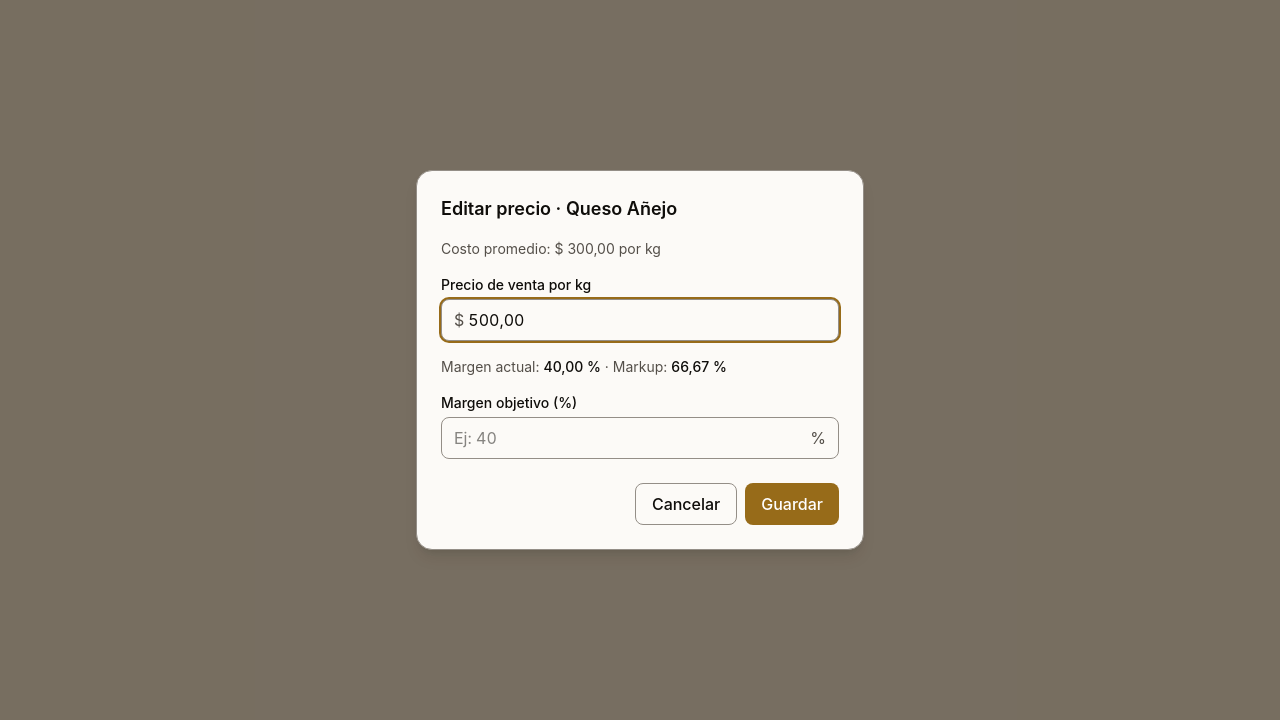
ModalPrecio › editar el precio recalcula el margen actual y el markup EN VIVO
Expected: the text "40,00 %" is shown, [544,358,601,375]
Expected: the text "66,67 %" is shown, [671,358,727,375]
Replace the text in the field labelled "Precio de venta por kg" with "400,00" at (647, 320), box [468,308,826,332]
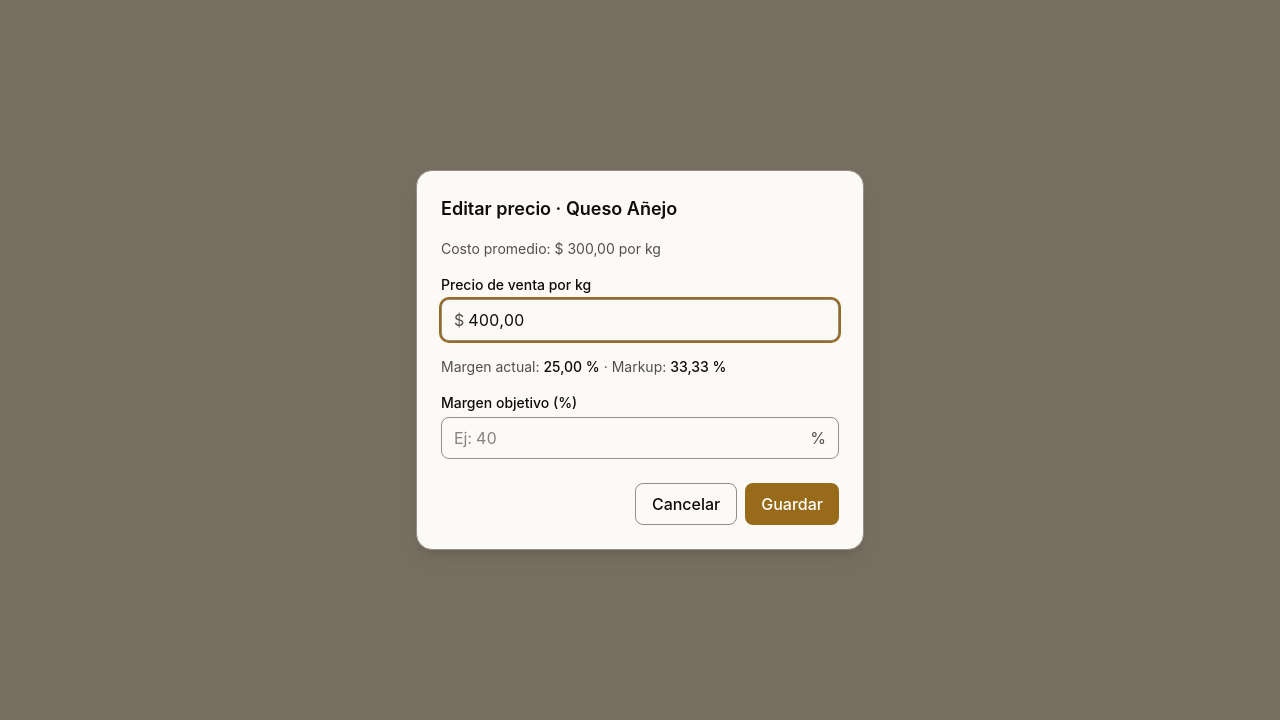
Now the text "25,00 %" is shown, box [544,358,600,375]
Now the text "33,33 %" is shown, box [670,358,726,375]
